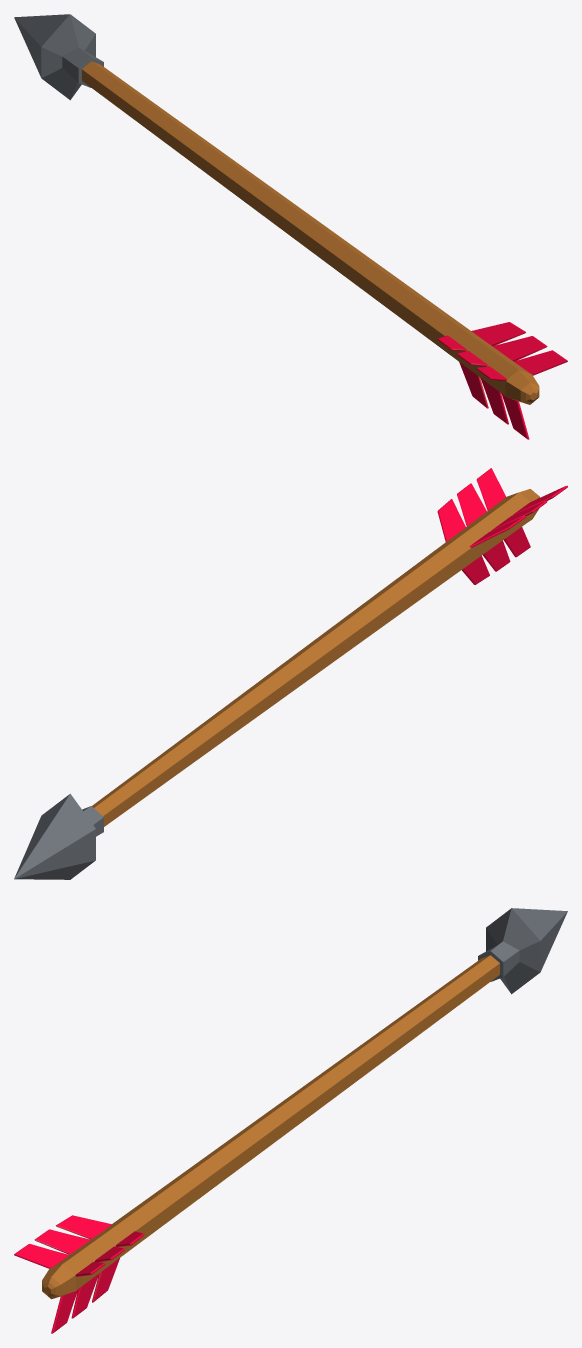
The model's file is arrow.glb.
The picture shows the model from 3 angles, top to bottom: view 1: azimuth 30°, elevation 25°; view 2: azimuth 150°, elevation 25°; view 3: azimuth 330°, elevation 25°; orthographic projection.
Visible parts, largest first — view 1: arrow_shaft, feathers, arrow_head; view 2: arrow_shaft, arrow_head, feathers; view 3: arrow_shaft, arrow_head, feathers.
Boxes of the visible parts, x1=… form: arrow_shaft: x1=82, y1=61, x2=539, y2=404; feathers: x1=437, y1=322, x2=567, y2=439; arrow_head: x1=14, y1=14, x2=103, y2=100; arrow_shaft: x1=92, y1=489, x2=539, y2=826; arrow_head: x1=14, y1=793, x2=103, y2=879; feathers: x1=437, y1=468, x2=567, y2=584; arrow_shaft: x1=42, y1=955, x2=499, y2=1299; arrow_head: x1=478, y1=908, x2=567, y2=994; feathers: x1=14, y1=1215, x2=144, y2=1333.
Size of the model in its own units: 0.1477 by 0.164 by 1.72.
1 material, 1 textured.
